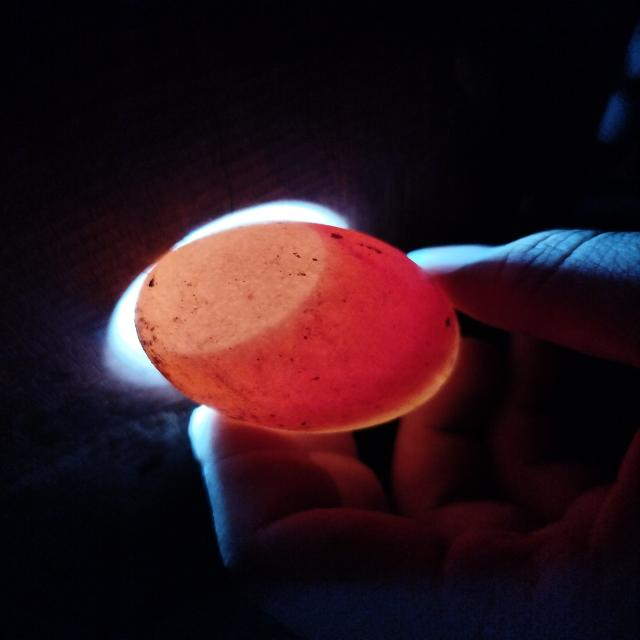Camara de Ar: (136, 223, 327, 378)
Gema Quebrada: (150, 222, 457, 433)
